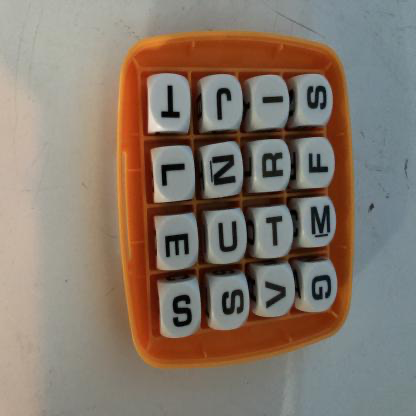e: (160, 220, 197, 266)
f: (300, 143, 333, 189)
g: (305, 266, 335, 309)
i: (254, 80, 288, 128)
j: (203, 81, 241, 129)
l: (154, 151, 195, 202)
m: (305, 201, 335, 243)
n: (205, 146, 242, 193)
r: (256, 145, 289, 190)
s: (164, 287, 200, 332), (212, 280, 248, 324), (299, 78, 332, 123)
t: (150, 75, 191, 133), (258, 208, 292, 256)
u: (210, 215, 244, 262)
v: (260, 270, 294, 315)
